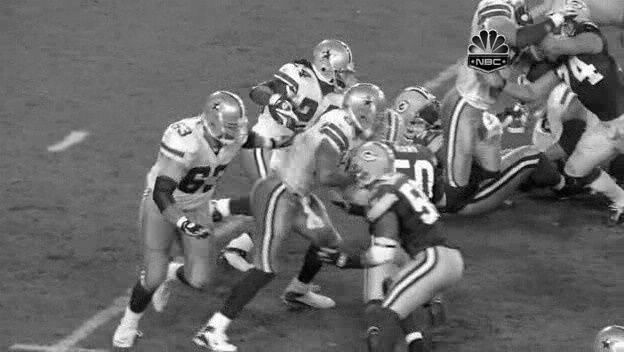person: (321, 37, 356, 82), (320, 37, 355, 82), (322, 37, 357, 82), (321, 36, 356, 81), (321, 38, 356, 83)
target_negative: (214, 16, 421, 350), (135, 56, 225, 220), (355, 260, 516, 335), (558, 129, 589, 324), (90, 333, 196, 351), (572, 181, 605, 235)
